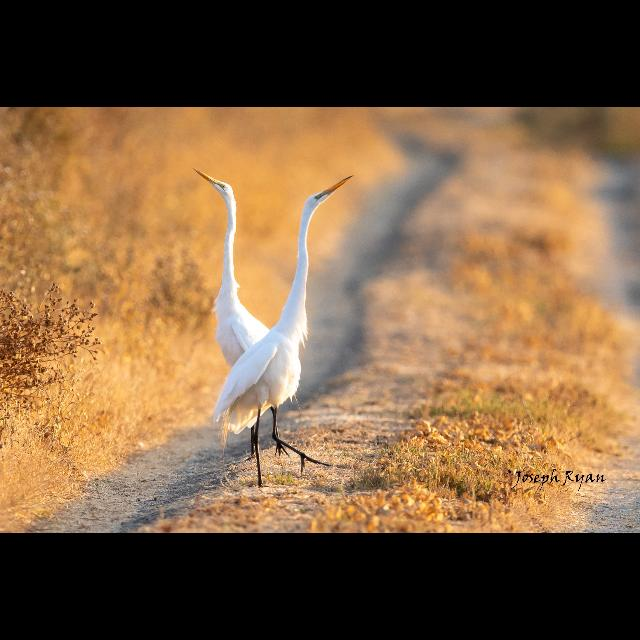egret: (246, 174, 354, 473), (183, 162, 239, 364)
